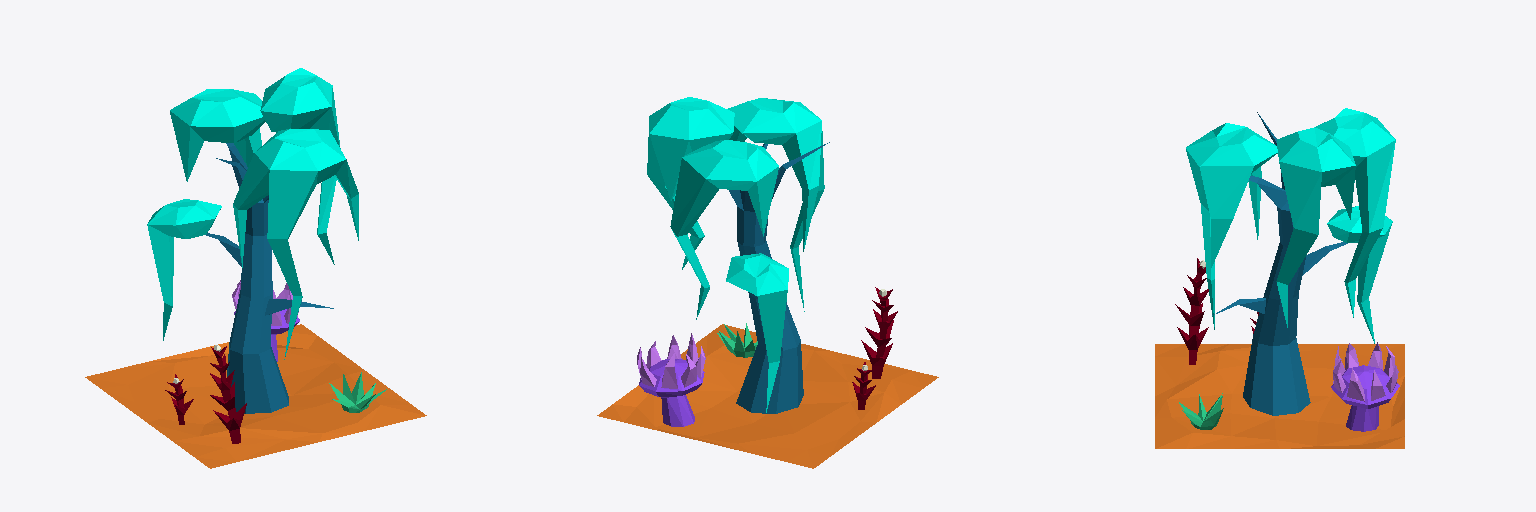
3 renders of one model, left to right at view 1: azimuth 30°, elevation 25°; view 2: azimuth 150°, elevation 25°; view 3: azimuth 270°, elevation 25°, orthographic.
Visible parts, largest first — view 1: Plane.002; view 2: Plane.002; view 3: Plane.002.
Boxes of the visible parts, x1=… form: Plane.002: x1=85, y1=68, x2=426, y2=468; Plane.002: x1=597, y1=97, x2=938, y2=468; Plane.002: x1=1155, y1=108, x2=1404, y2=448.
Bounding box in the file's own units: 2 × 2.68 × 2.
Materials: 1 (1 with a texture image).